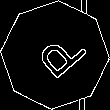P_SW: (24, 24, 86, 86)
